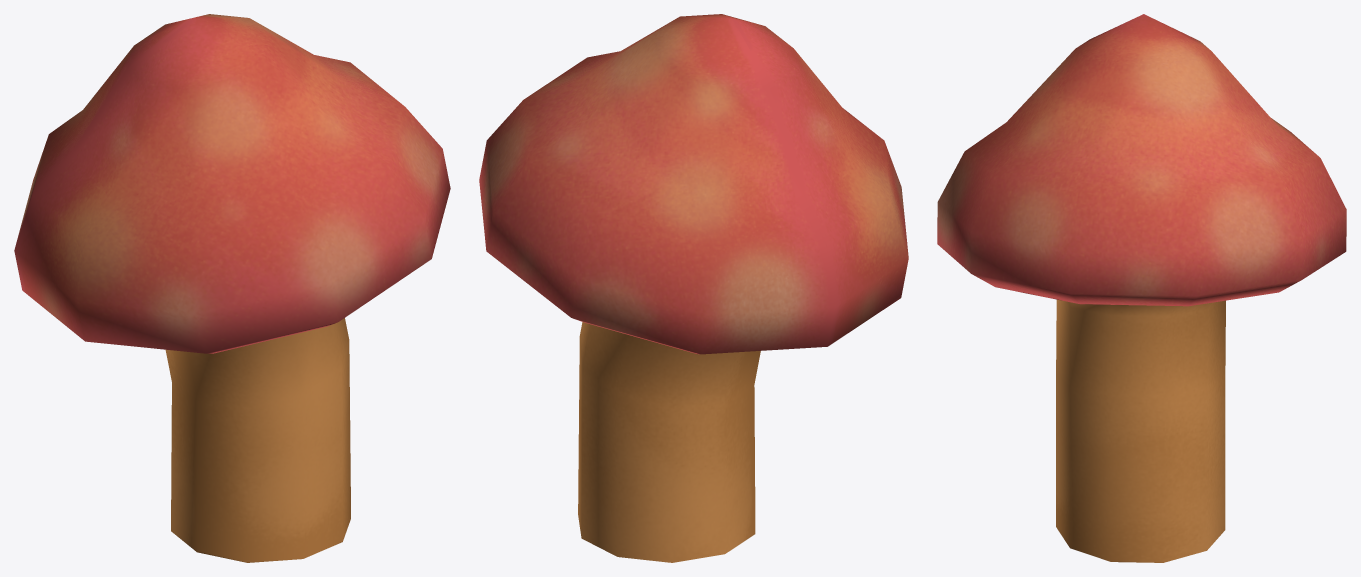
The model's file is Mushroom_1.fbx.
3 views of the same model, side by side, from view 1: azimuth 30°, elevation 25°; view 2: azimuth 150°, elevation 25°; view 3: azimuth 270°, elevation 25° (orthographic). The views are drawn at different scales.
Parts seen in each view (by area): view 1: Mushroom_1; view 2: Mushroom_1; view 3: Mushroom_1.
Boxes of the visible parts, box(x1,y1,x2,y2) form: Mushroom_1: box(14, 14, 450, 562); Mushroom_1: box(479, 14, 908, 562); Mushroom_1: box(937, 14, 1346, 562).
Size of the model in its own units: 0.1087 by 0.1468 by 0.1125.
Materials: 1 (1 with a texture image).
